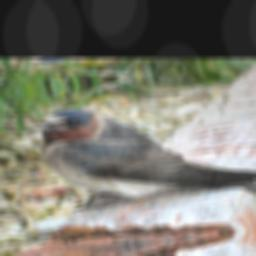Swallow: (23, 82, 256, 224)
